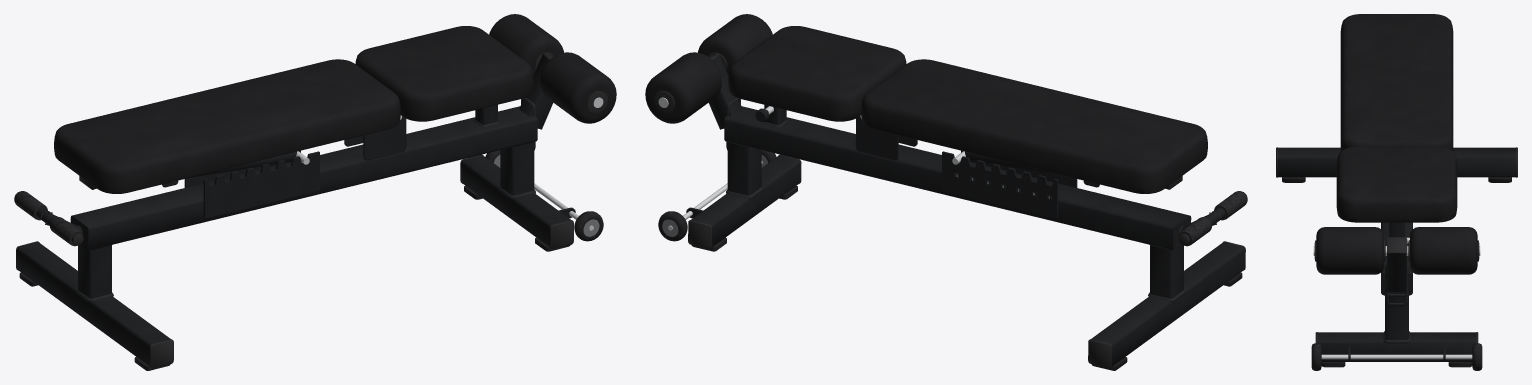
Rendered from real_adjustable_bench.glb.
3 renders of one model, left to right at view 1: azimuth 30°, elevation 25°; view 2: azimuth 150°, elevation 25°; view 3: azimuth 270°, elevation 25°, orthographic. The views are drawn at different scales.
Parts seen in each view (by area): view 1: Backrest pad (black vinyl), Backrest frame, Backrest frame End cap, Rubber foot, Handle grip (foam), Front leg top Weld, Leg holder axle; view 2: Backrest pad (black vinyl), Backrest frame, Backrest frame End cap, Rubber foot, Handle grip (foam), Front leg top Weld, Leg holder axle; view 3: Backrest pad (black vinyl), Backrest frame, Rubber foot, Leg holder axle, Backrest frame End cap, Front leg top Weld.
Part boxes in pixels (box(x1,y1,x2,y2)): Backrest pad (black vinyl): box(54, 14, 616, 193); Backrest frame: box(17, 55, 575, 366); Backrest frame End cap: box(14, 52, 607, 368); Rubber foot: box(19, 150, 603, 370); Handle grip (foam): box(14, 191, 83, 246); Front leg top Weld: box(40, 97, 535, 302); Leg holder axle: box(173, 97, 603, 230); Backrest pad (black vinyl): box(645, 14, 1207, 193); Backrest frame: box(686, 55, 1244, 366); Backrest frame End cap: box(654, 52, 1247, 368); Rubber foot: box(658, 150, 1242, 370); Handle grip (foam): box(1178, 191, 1247, 246); Front leg top Weld: box(726, 97, 1221, 302); Leg holder axle: box(658, 97, 965, 230); Backrest pad (black vinyl): box(1316, 14, 1477, 274); Backrest frame: box(1278, 147, 1515, 361); Rubber foot: box(1282, 177, 1511, 370); Leg holder axle: box(1313, 237, 1480, 359); Backrest frame End cap: box(1276, 147, 1517, 343); Front leg top Weld: box(1383, 264, 1410, 343).
Bounding box in the file's own units: 1.39 × 0.444 × 0.609.
11 materials, 6 textured.
